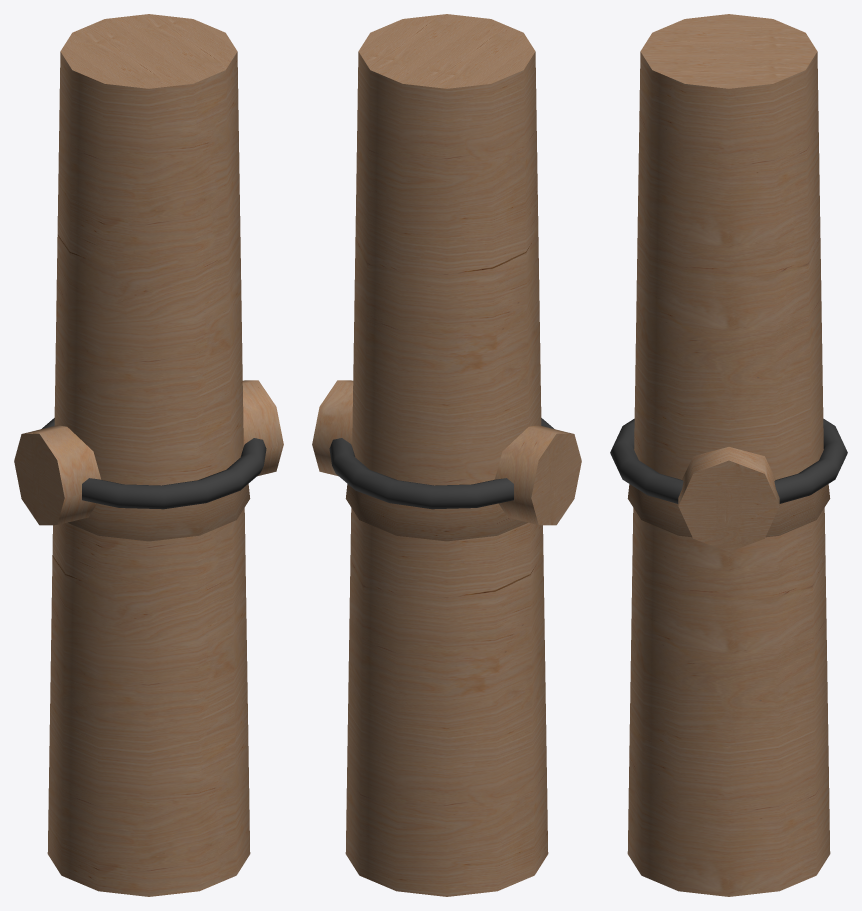
Rendered from Fence_Kit-v1.0.0.glb.
The picture shows the model from 3 angles, left to right: view 1: azimuth 30°, elevation 25°; view 2: azimuth 150°, elevation 25°; view 3: azimuth 270°, elevation 25°; orthographic projection.
Parts seen in each view (by area): view 1: Geo_Post, Geo_Arch, Geo_Cap, Geo_BaseRing; view 2: Geo_Post, Geo_Arch, Geo_Cap, Geo_BaseRing; view 3: Geo_Post, Geo_Arch, Geo_BaseRing, Geo_Cap, Geo_Rail.
Boxes of the visible parts, left/top/right/bottom form: Geo_Post: left=47, top=14, right=250, bottom=896; Geo_Arch: left=14, top=380, right=283, bottom=525; Geo_Cap: left=68, top=484, right=250, bottom=541; Geo_BaseRing: left=42, top=418, right=266, bottom=509; Geo_Post: left=345, top=14, right=548, bottom=896; Geo_Arch: left=312, top=380, right=581, bottom=525; Geo_Cap: left=345, top=484, right=527, bottom=541; Geo_BaseRing: left=329, top=418, right=553, bottom=509; Geo_Post: left=627, top=14, right=830, bottom=896; Geo_Arch: left=678, top=447, right=779, bottom=551; Geo_BaseRing: left=610, top=418, right=847, bottom=503; Geo_Cap: left=627, top=484, right=830, bottom=537; Geo_Rail: left=716, top=489, right=741, bottom=523.
Size of the model in its own units: 32767 by 114684 by 30801.
Materials: 7 (6 with a texture image).
